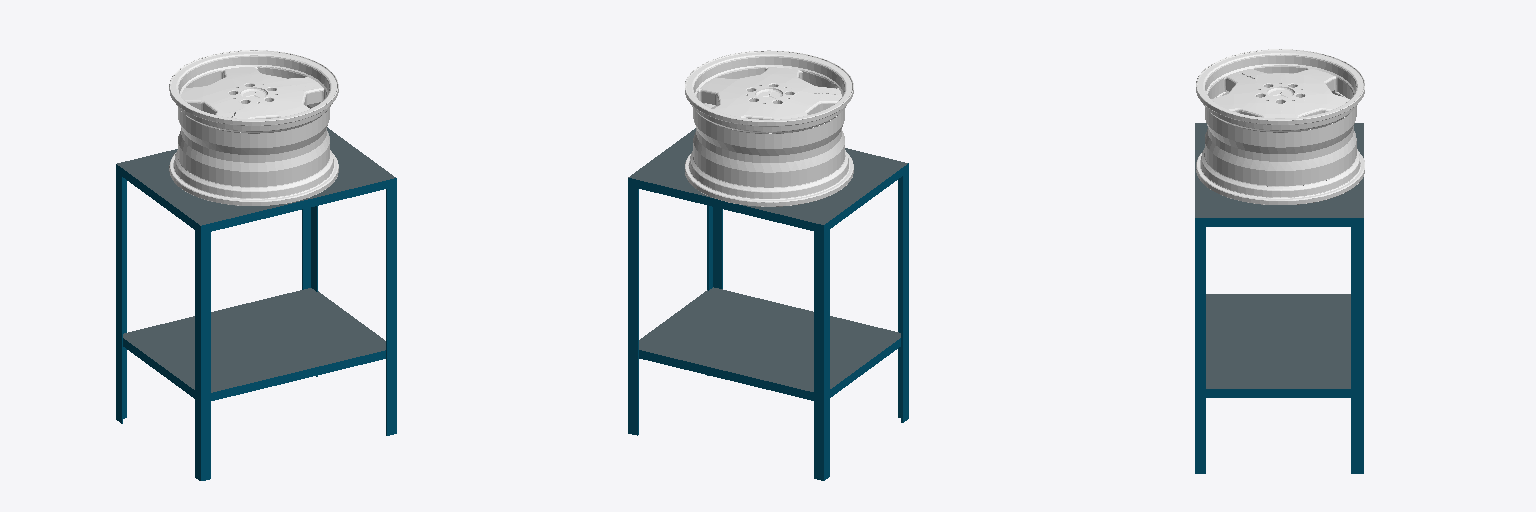
Rendered from adjustable_height_table_w_wheel.obj.
3 views of the same model, side by side, from view 1: azimuth 30°, elevation 25°; view 2: azimuth 150°, elevation 25°; view 3: azimuth 270°, elevation 25° (orthographic).
Visible parts, largest first — view 1: Adjustable_Height_Work_Table:1_Untitled, mercedes_wheel_new:1_Untitled.001; view 2: Adjustable_Height_Work_Table:1_Untitled, mercedes_wheel_new:1_Untitled.001; view 3: Adjustable_Height_Work_Table:1_Untitled, mercedes_wheel_new:1_Untitled.001.
Part boxes in pixels (bbox=[...]): Adjustable_Height_Work_Table:1_Untitled: bbox=[116, 127, 396, 480]; mercedes_wheel_new:1_Untitled.001: bbox=[169, 50, 338, 205]; Adjustable_Height_Work_Table:1_Untitled: bbox=[628, 128, 908, 480]; mercedes_wheel_new:1_Untitled.001: bbox=[685, 50, 853, 206]; Adjustable_Height_Work_Table:1_Untitled: bbox=[1195, 123, 1363, 473]; mercedes_wheel_new:1_Untitled.001: bbox=[1196, 49, 1364, 204].
Size of the model in its own units: 0.5724 by 0.9533 by 0.4321.